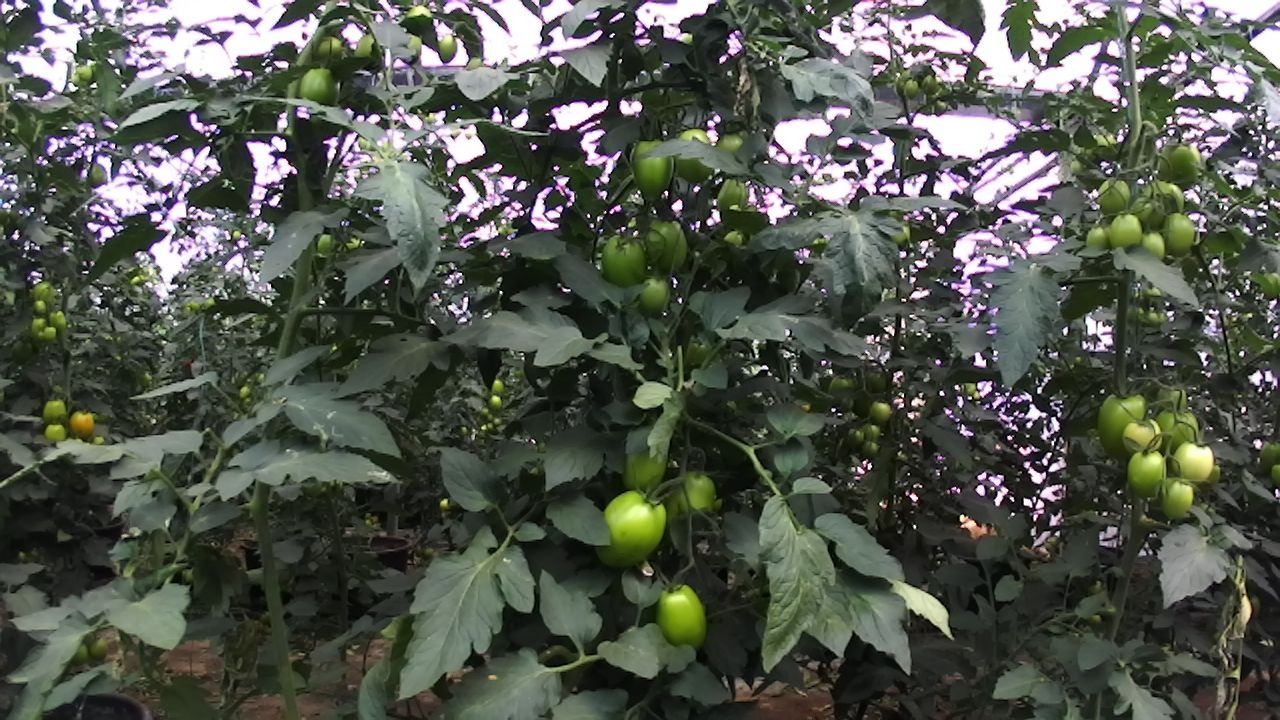tomato: (582, 469, 681, 577), (654, 453, 729, 558), (643, 573, 726, 664), (590, 222, 664, 298), (622, 127, 684, 210), (1090, 383, 1152, 462), (662, 119, 728, 188), (1148, 398, 1209, 468), (289, 57, 354, 122), (1150, 128, 1212, 195), (624, 261, 685, 324), (1121, 443, 1177, 506), (1167, 432, 1221, 491), (707, 166, 756, 224), (1087, 164, 1134, 224), (1115, 412, 1170, 460), (1154, 470, 1199, 525), (1126, 189, 1172, 239), (347, 26, 395, 73), (1104, 205, 1146, 258), (1158, 204, 1198, 259), (1078, 218, 1116, 259), (1136, 224, 1173, 265), (861, 392, 900, 430), (65, 404, 103, 441), (433, 27, 464, 68), (40, 391, 71, 431), (26, 277, 58, 309), (41, 419, 70, 447), (45, 306, 70, 332), (27, 314, 50, 342), (857, 437, 885, 460), (859, 420, 884, 445), (901, 74, 923, 102), (483, 390, 507, 413), (487, 372, 508, 398), (39, 322, 61, 343), (31, 297, 49, 319)
